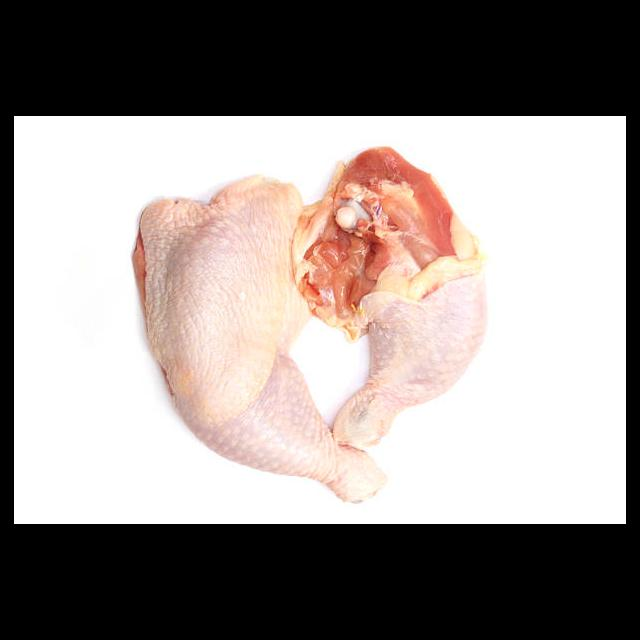chicken: (131, 174, 389, 505), (291, 145, 486, 443)
